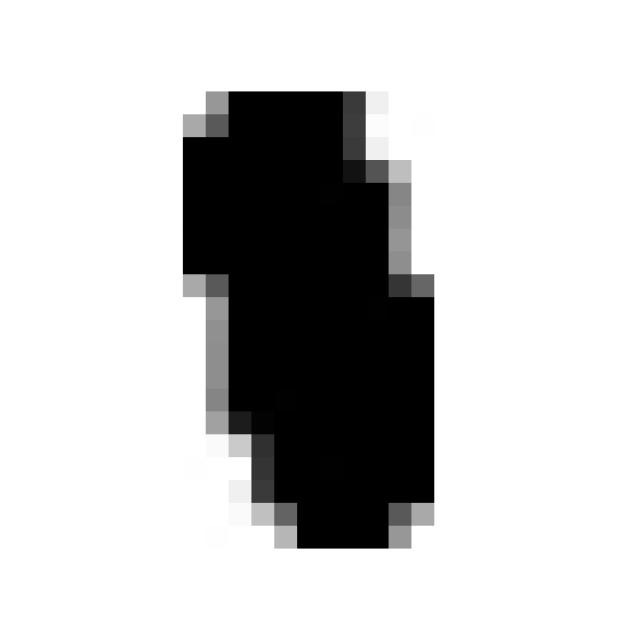0 -zero-: (160, 66, 448, 564)
